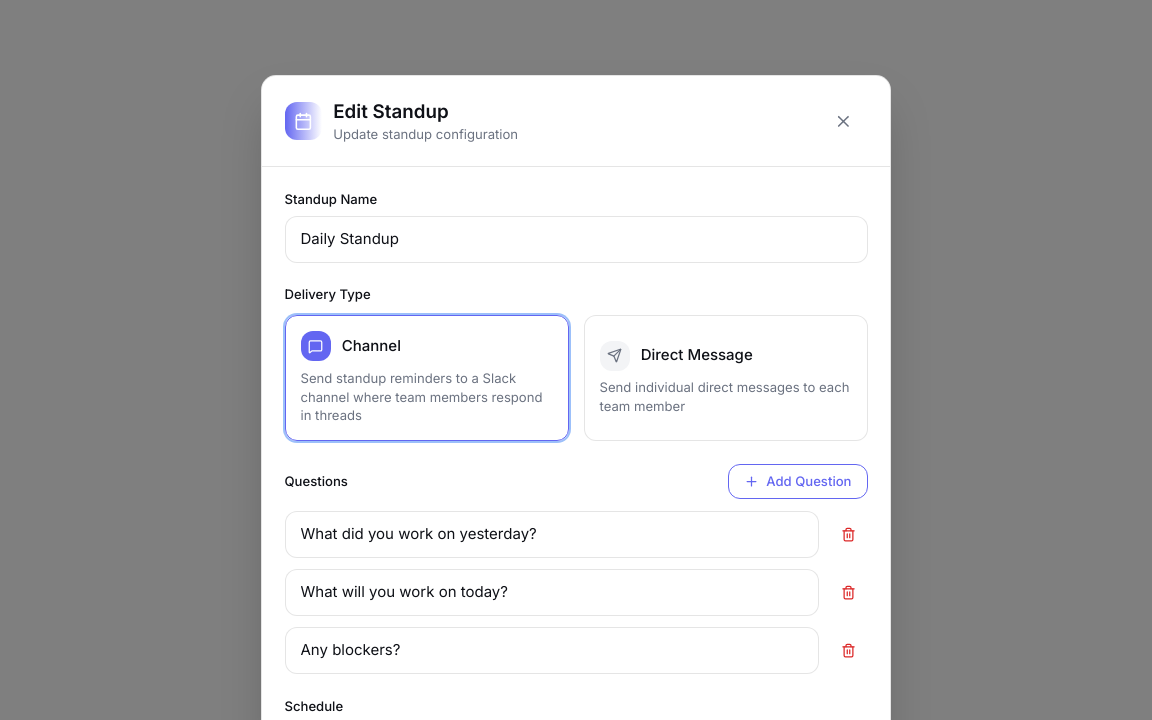
Test: StandupEditModal › shows loading state during form submission
Make a change to enable the button
Step 1. Replace the text in the field showing "Daily Standup" below "Standup Name" with "Updated Standup" → (576, 239), box [284, 216, 868, 263]
(page scrolled)
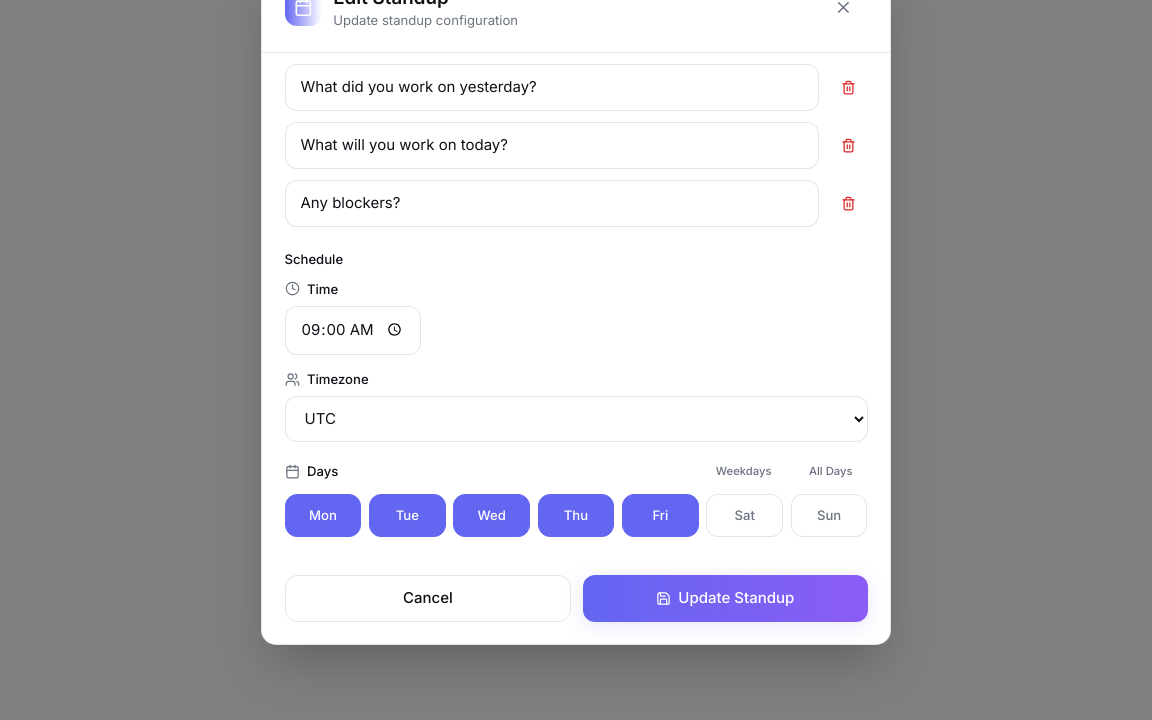
Now click the enabled update button
Step 2. Click the button "Update Standup" → (725, 598), box [583, 575, 868, 622]
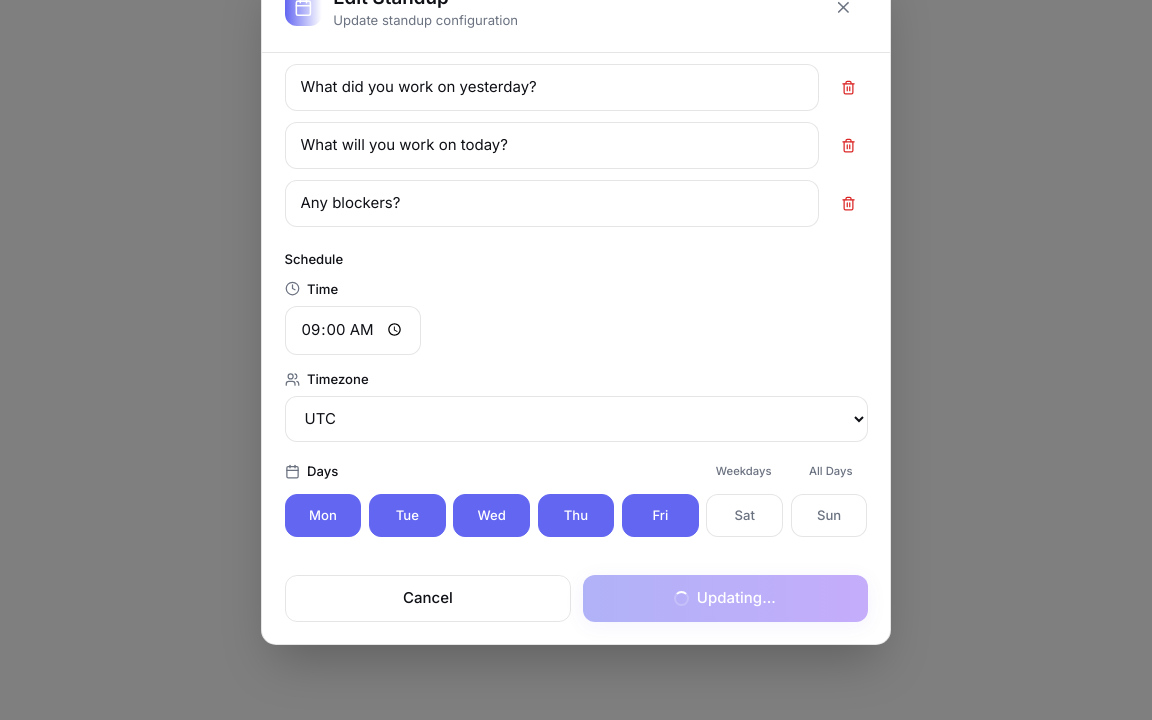
Now the button "Updating..." is disabled, box [583, 575, 868, 622]
